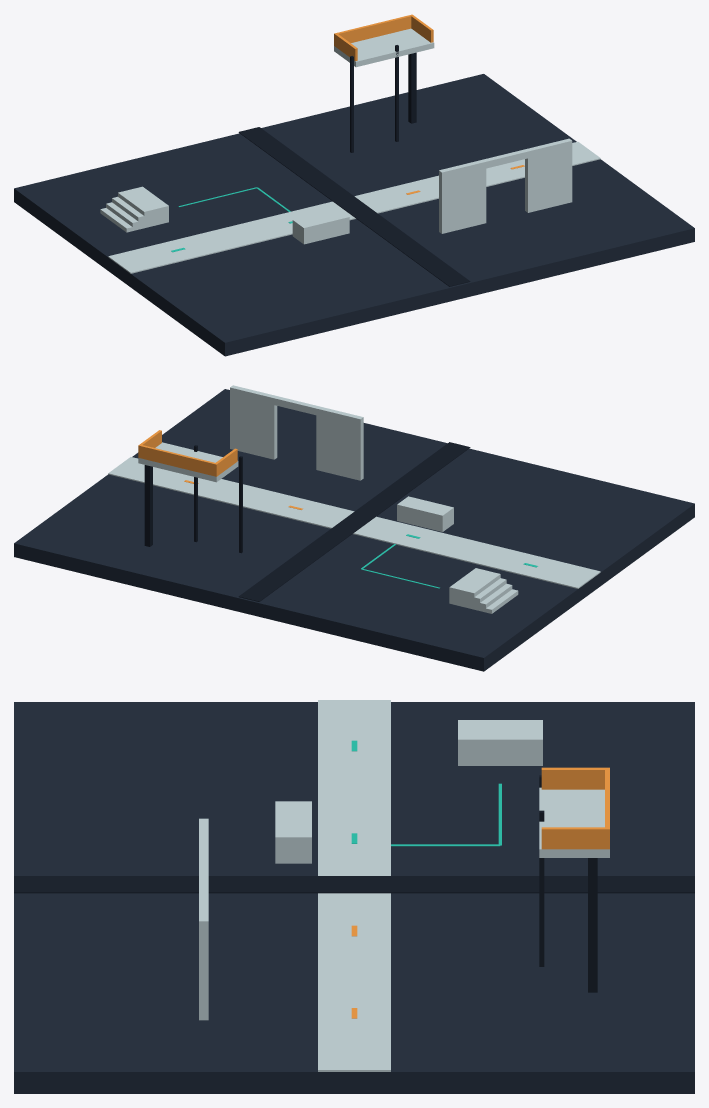
Rendered from worldspawn.glb.
3 views of the same model, one above another, from view 1: azimuth 30°, elevation 25°; view 2: azimuth 150°, elevation 25°; view 3: azimuth 270°, elevation 25° (orthographic). The views are drawn at different scales.
Visible parts, largest first — view 1: worldspawn; view 2: worldspawn; view 3: worldspawn.
Part boxes in pixels (x1=…): worldspawn: x1=14, y1=14, x2=694, y2=356; worldspawn: x1=14, y1=385, x2=694, y2=671; worldspawn: x1=14, y1=700, x2=694, y2=1093.
Size of the model in its own units: 36 by 8.5 by 28.
Materials: 5 (5 with a texture image).
